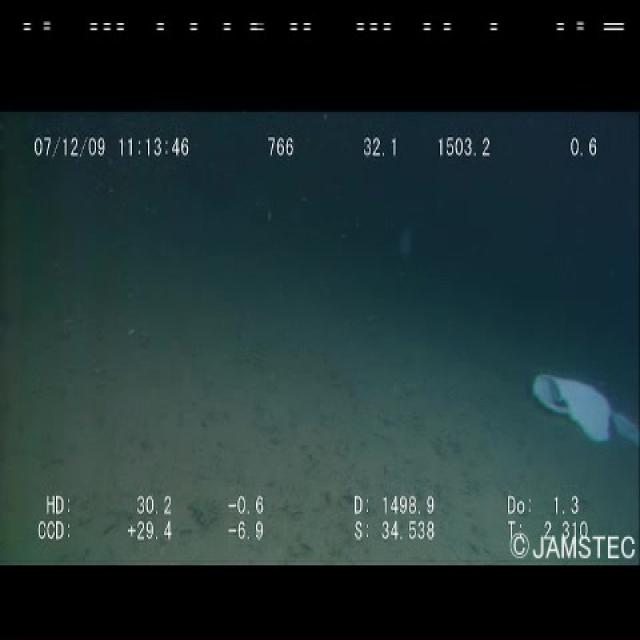plastic: (520, 368, 639, 452)
